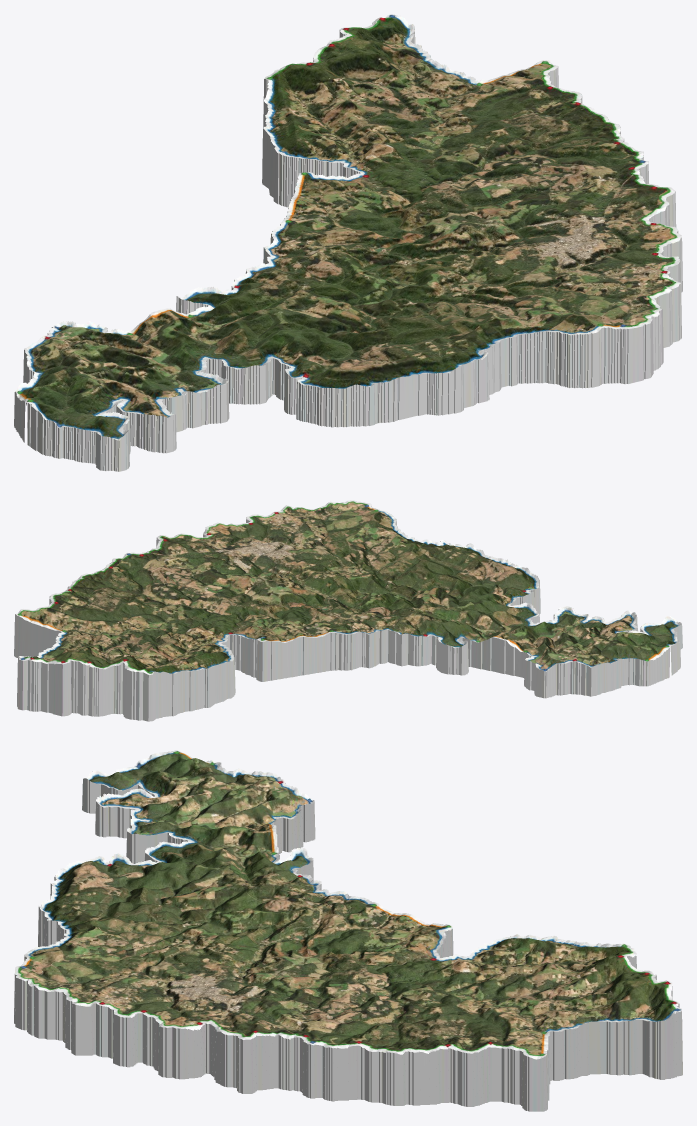
The picture shows the model from 3 angles, top to bottom: view 1: azimuth 30°, elevation 25°; view 2: azimuth 150°, elevation 25°; view 3: azimuth 270°, elevation 25°; orthographic projection. The views are drawn at different scales.
Bounding box in the file's own units: 0.9998 × 0.0978 × 0.8748.
Materials: 1 (1 with a texture image).
